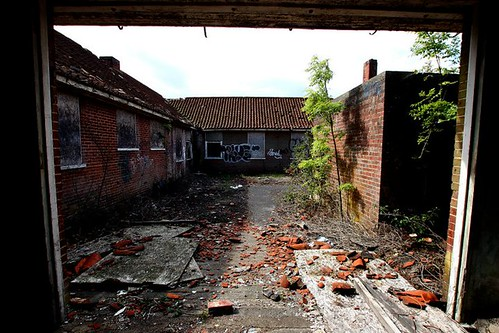building: (43, 25, 197, 224), (307, 74, 461, 228), (187, 94, 324, 178)
graffiti: (214, 140, 262, 165)
trash: (48, 214, 438, 333)
tree: (291, 63, 353, 211)
